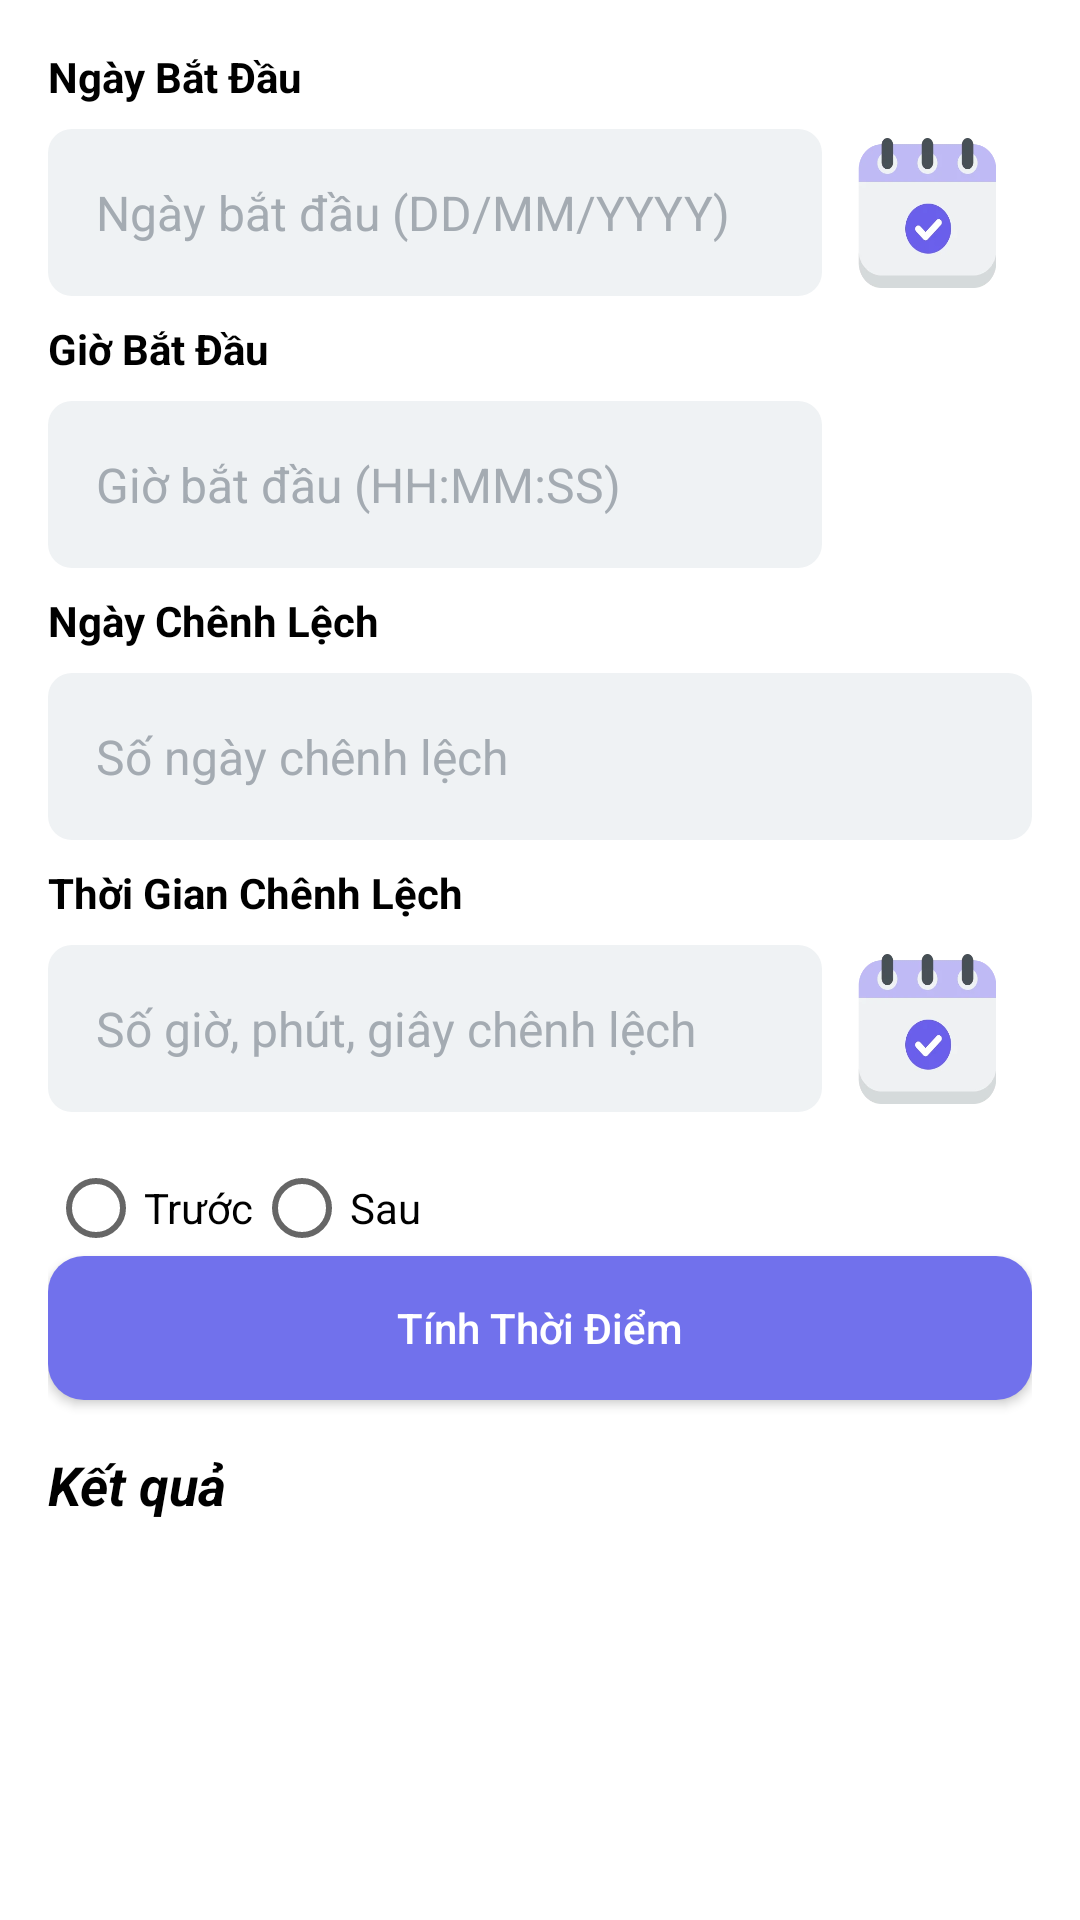

Screen size 1080x1920. Icon name, then its box in pixels as [x1,y1,x2,y2]:
calendar: [858,138,996,288], [858,954,996,1104]
